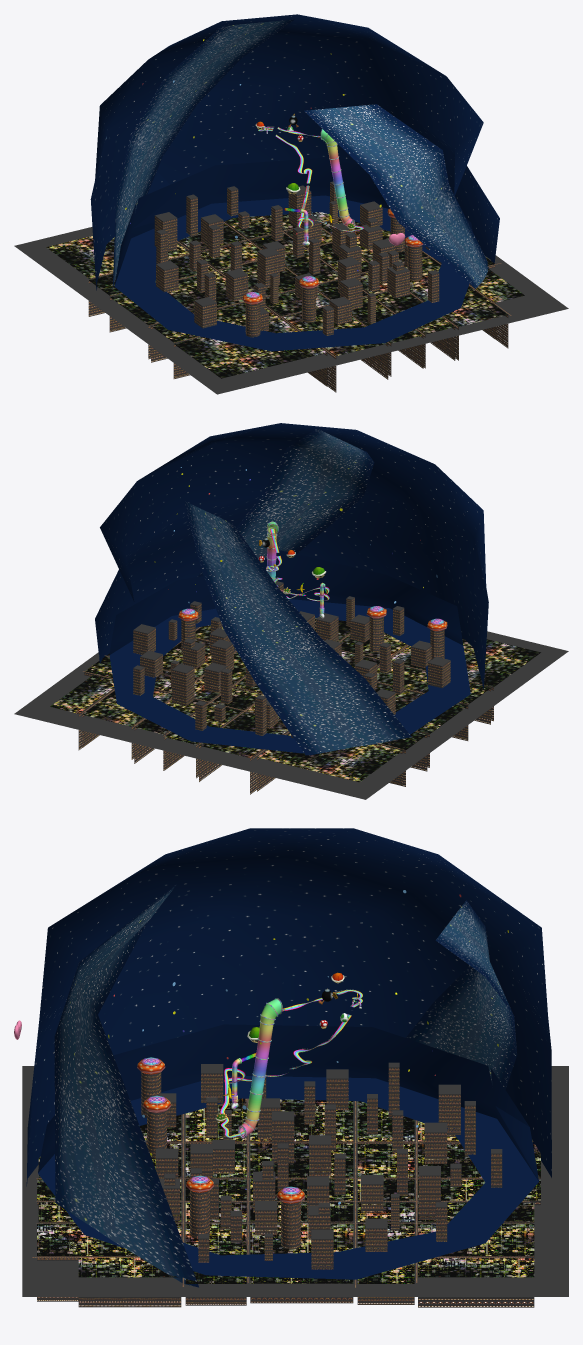
Rendered from gcnrainbow.obj.
3 views of the same model, one above another, from view 1: azimuth 30°, elevation 25°; view 2: azimuth 150°, elevation 25°; view 3: azimuth 270°, elevation 25° (orthographic). The views are drawn at different scales.
Visible parts, largest first — view 1: Group1, Group4, Group14, Group15, Group3, Group8, Group11, Group5; view 2: Group1, Group14, Group4, Group15, Group3, Group11; view 3: Group1, Group4, Group15, Group14, Group3, Group11, Group8, Group5.
Boxes of the visible parts, x1,y1,x2,y2 form: Group1: (90, 14, 499, 290); Group4: (14, 181, 568, 394); Group14: (112, 19, 488, 288); Group15: (114, 157, 472, 351); Group3: (46, 212, 524, 378); Group8: (321, 129, 353, 226); Group11: (242, 128, 423, 304); Group5: (258, 127, 363, 231); Group1: (95, 423, 488, 689); Group14: (184, 428, 411, 755); Group4: (14, 581, 568, 799); Group15: (109, 550, 470, 753); Group3: (50, 617, 540, 782); Group11: (178, 566, 447, 631); Group1: (26, 828, 551, 1186); Group4: (22, 1062, 568, 1307); Group15: (38, 1024, 538, 1279); Group14: (54, 884, 517, 1287); Group3: (37, 1098, 540, 1283); Group11: (137, 1000, 361, 1203); Group8: (239, 999, 281, 1137); Group5: (221, 990, 362, 1137).
Size of the model in its own units: 263791 by 208307 by 267849.
Materials: 18 (18 with a texture image).
